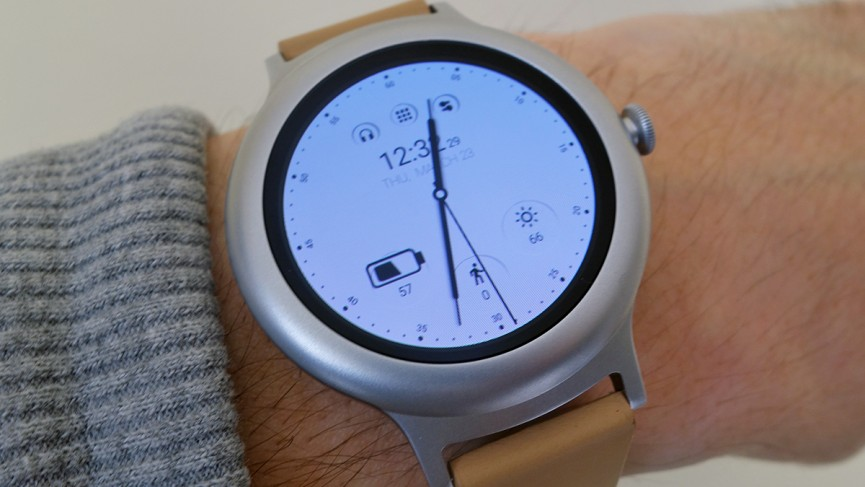clock: (226, 10, 659, 416)
